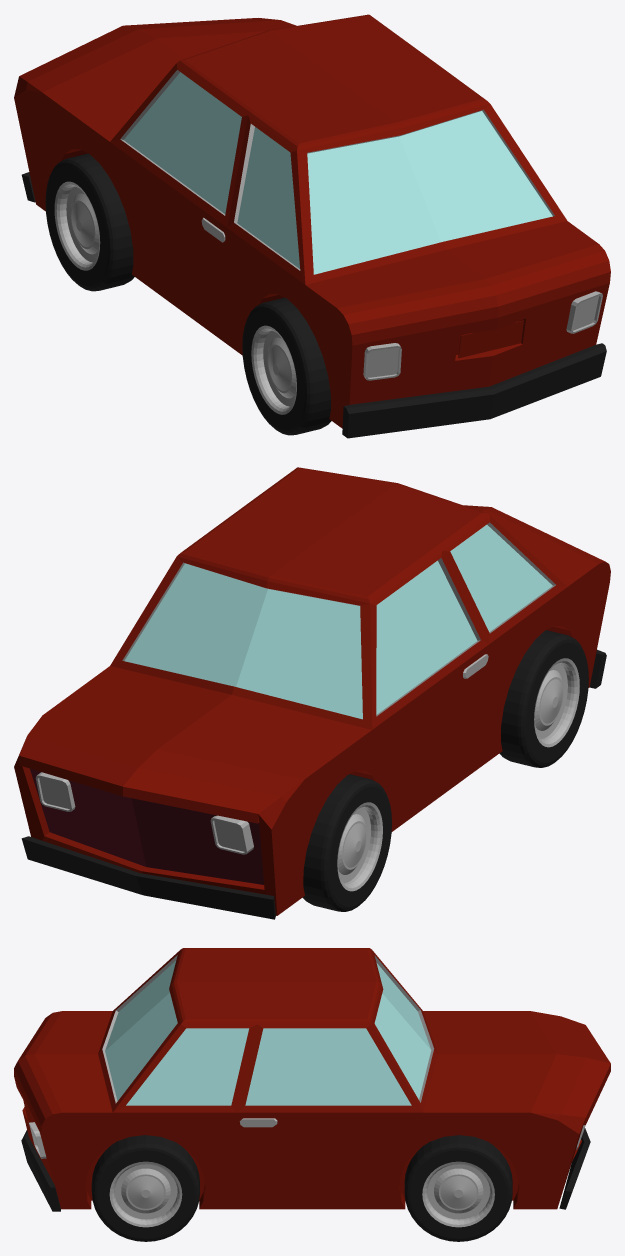
The model's file is Car03.fbx.
3 views of the same model, one above another, from view 1: azimuth 30°, elevation 25°; view 2: azimuth 150°, elevation 25°; view 3: azimuth 270°, elevation 25° (orthographic). The views are drawn at different scales.
Visible parts, largest first — view 1: CarBody.003, Wheels.003, BumperBack.003, Lights.003; view 2: CarBody.003, Wheels.003, BumperFront.003, Lights.003; view 3: CarBody.003, Wheels.003, BumperBack.003, BumperFront.003.
Part boxes in pixels (x1,y1,x2,y2): CarBody.003: [14, 14, 610, 428]; Wheels.003: [45, 153, 331, 435]; BumperBack.003: [342, 343, 606, 438]; Lights.003: [363, 291, 602, 380]; CarBody.003: [14, 467, 610, 915]; Wheels.003: [302, 630, 588, 911]; BumperFront.003: [21, 836, 275, 919]; Lights.003: [35, 772, 253, 854]; CarBody.003: [14, 948, 610, 1209]; Wheels.003: [91, 1135, 512, 1241]; BumperBack.003: [21, 1130, 60, 1211]; BumperFront.003: [559, 1128, 590, 1209].
Bounding box in the file's own units: 130 × 114 × 299.
